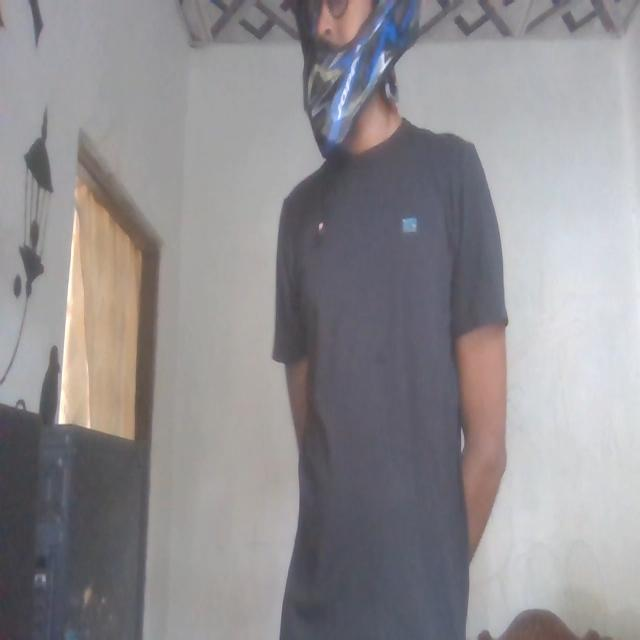Helmet_Wearer: (292, 0, 443, 165)
Person: (272, 2, 510, 640)
